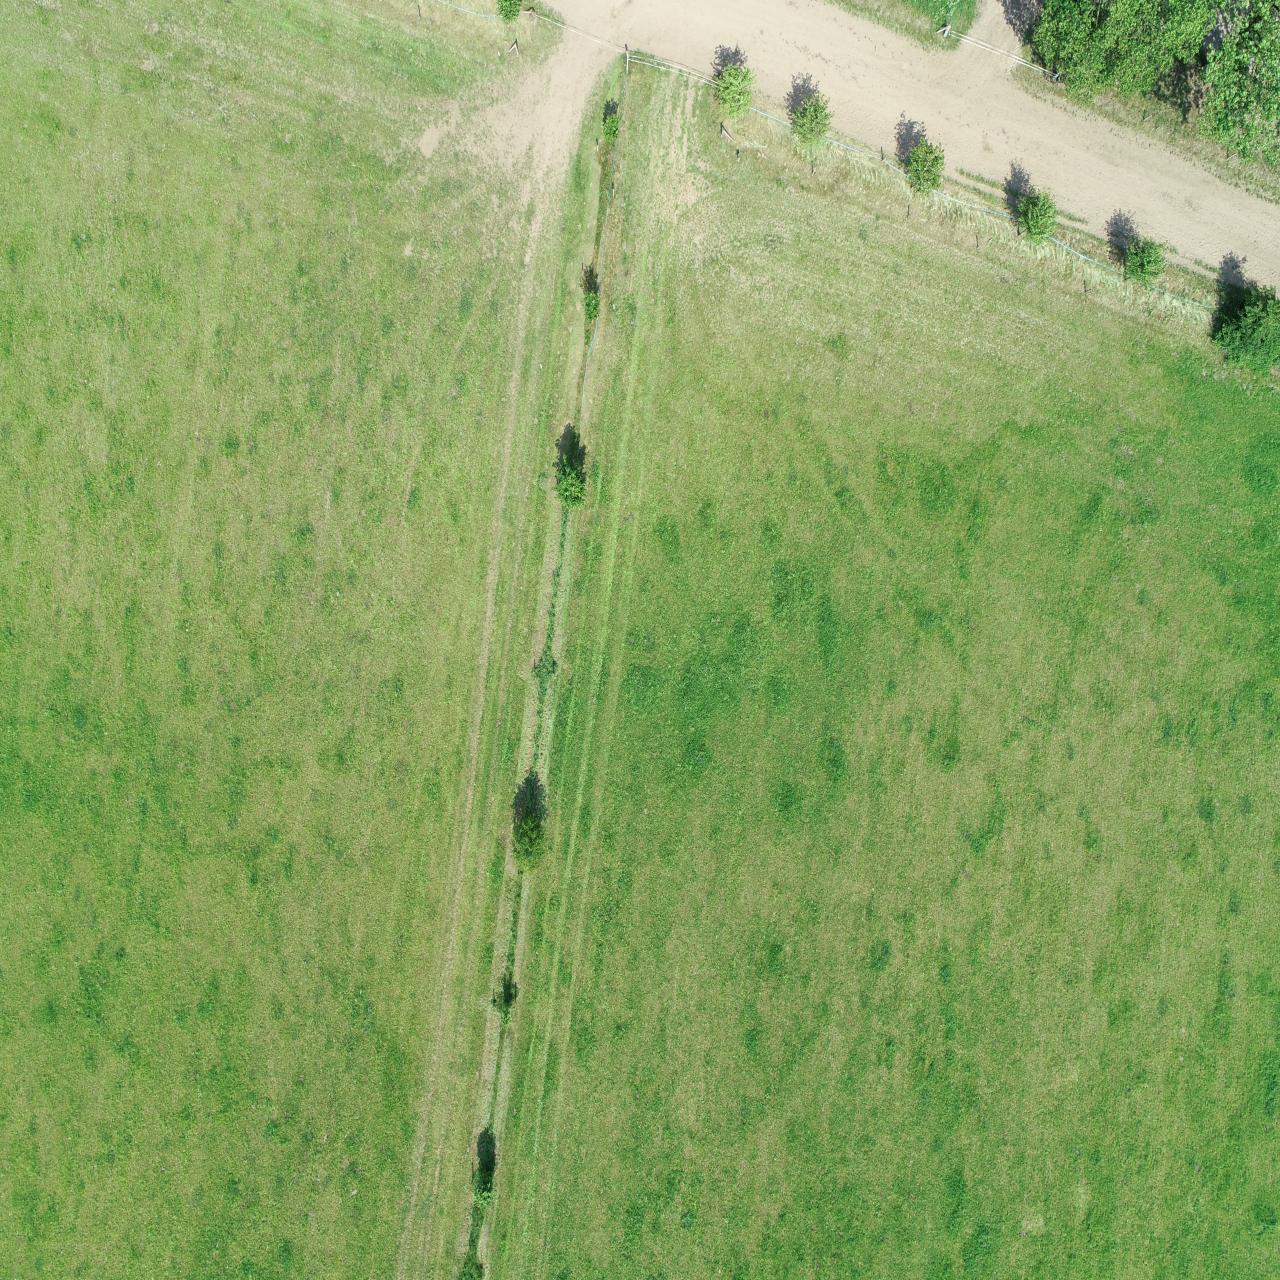cow: (844, 1083, 884, 1186)
